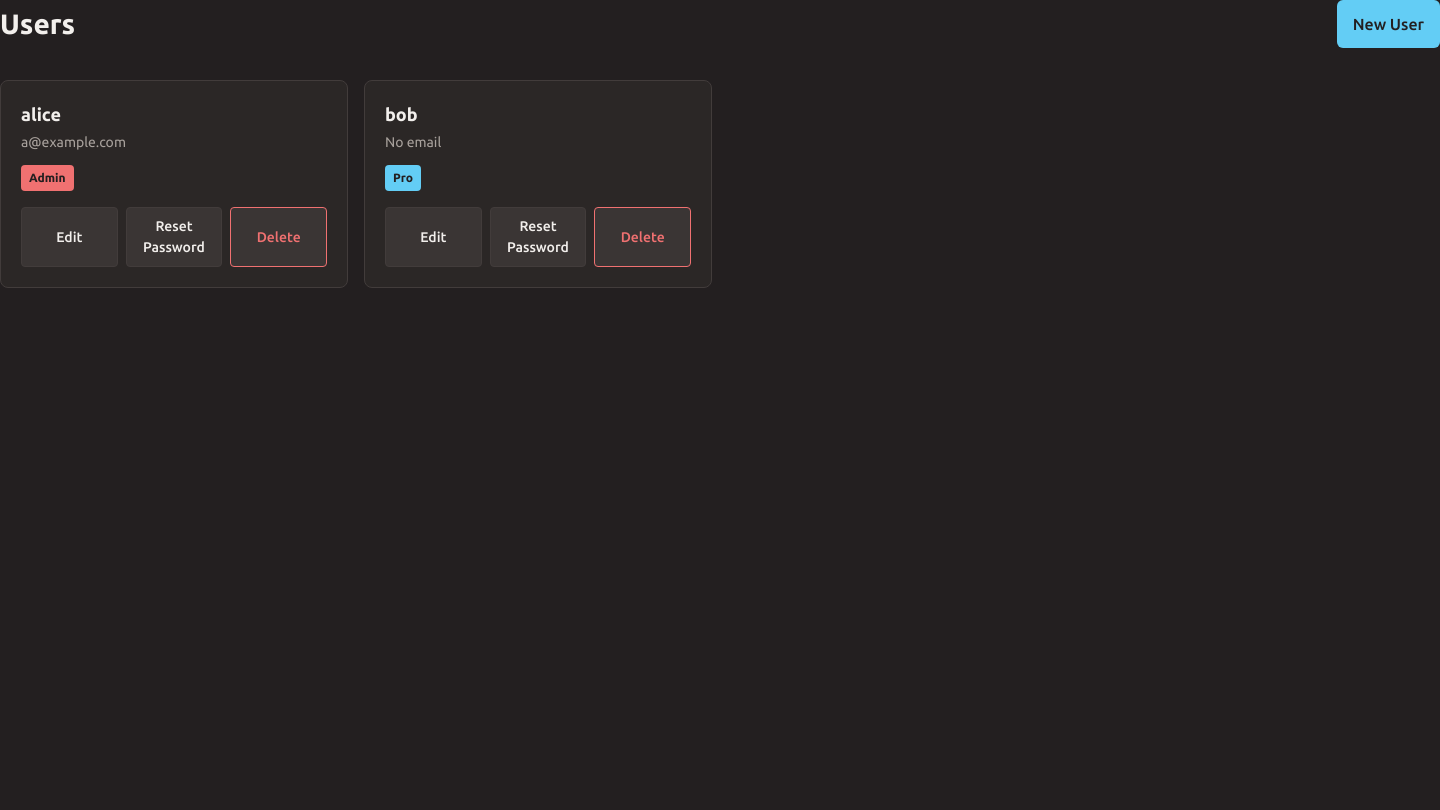
it: AdminUsers plan control › warns that Stripe will reset a manual change on a Stripe-backed account
This screenshot has width=1440, height=810.
Click the button "Edit" below "Pro".
click(433, 237)  # box top-left (385, 207), bottom-right (482, 267)
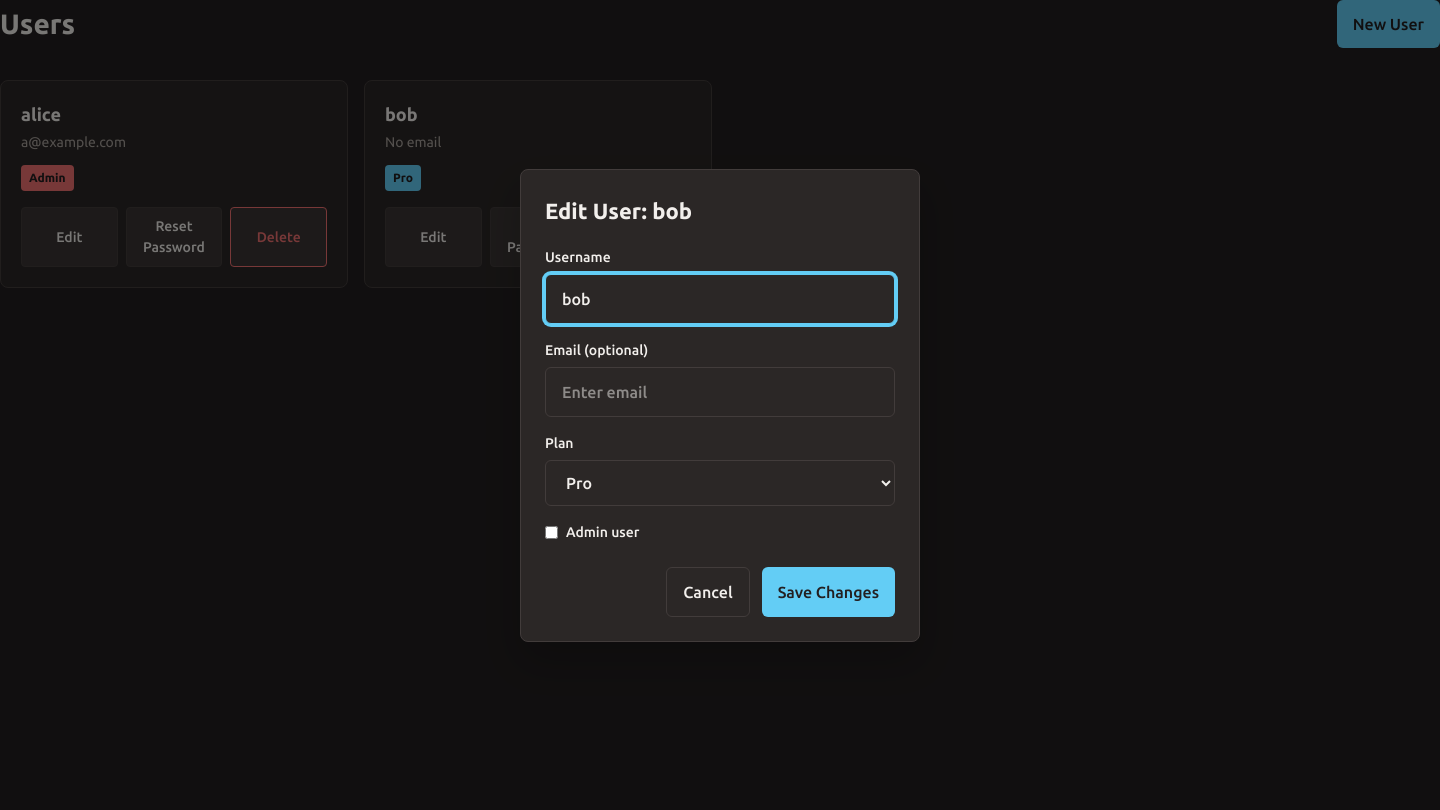
Select "Free" in the dropdown labelled "Plan" at coordinates (720, 482), box top-left (545, 460), bottom-right (895, 506)
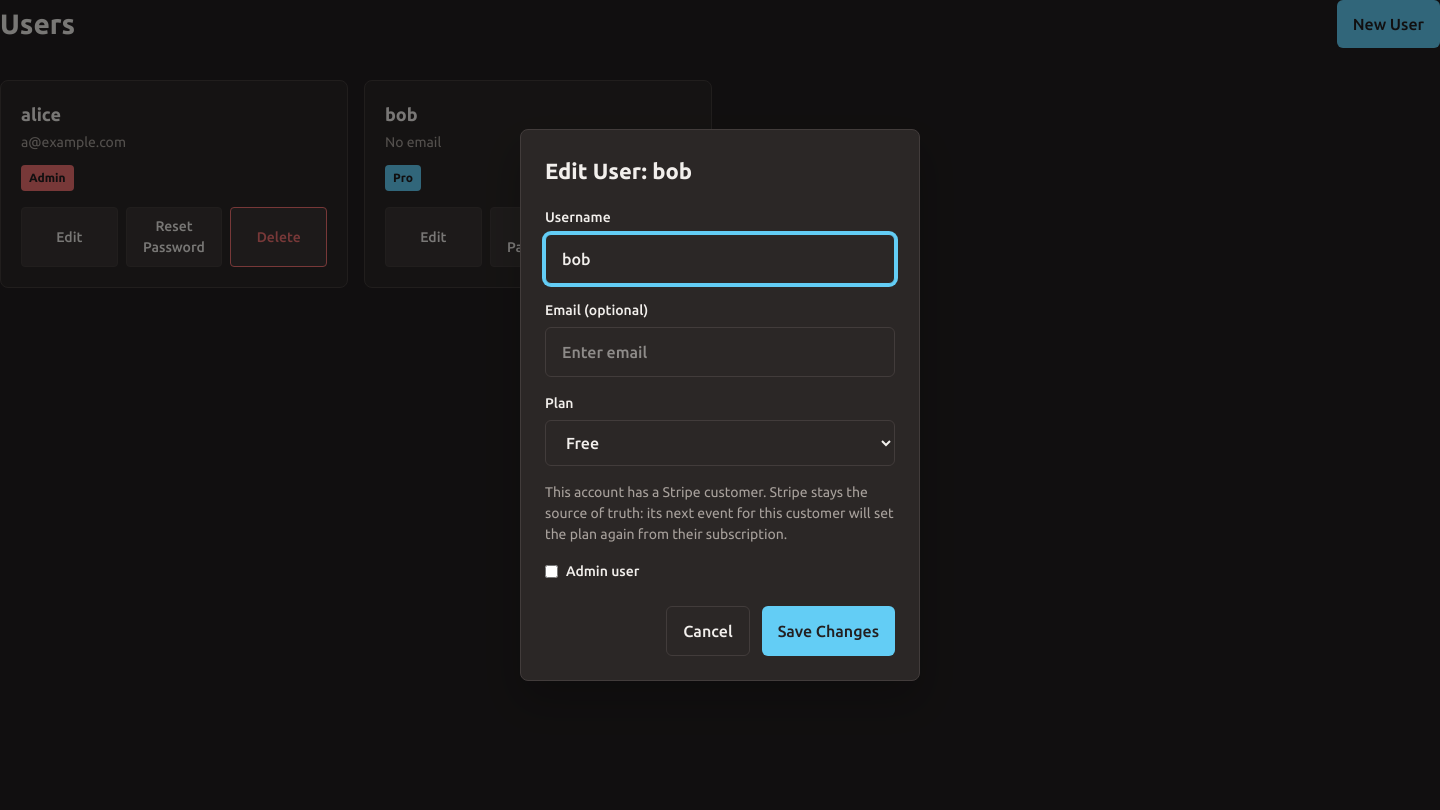
Expected: the text "Stripe stays the source of truth" is shown, top-left (545, 484), bottom-right (894, 542)
